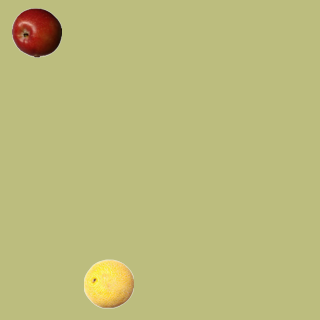Apple Braeburn: (11, 7, 61, 57)
Cantaloupe 1: (83, 258, 133, 308)
